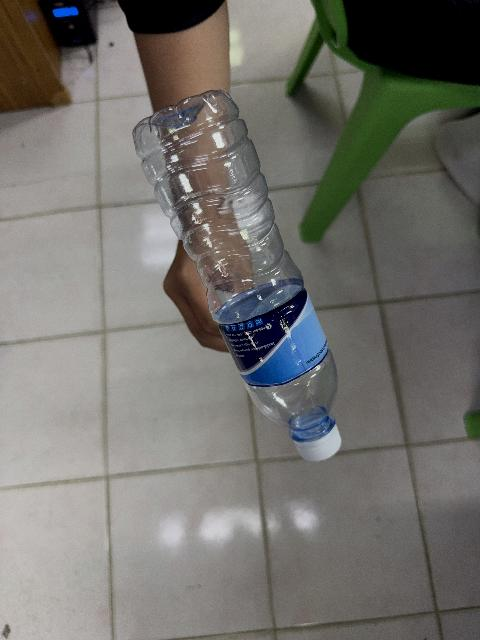bottle: (134, 91, 341, 460)
